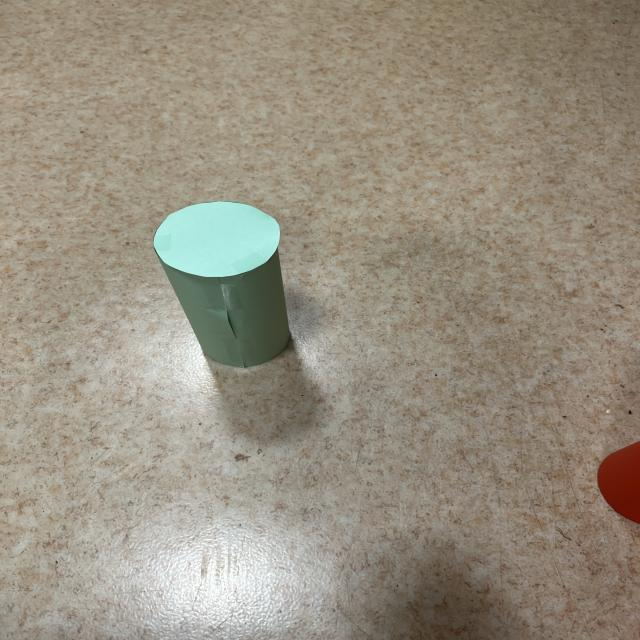meta: (154, 202, 290, 367)
